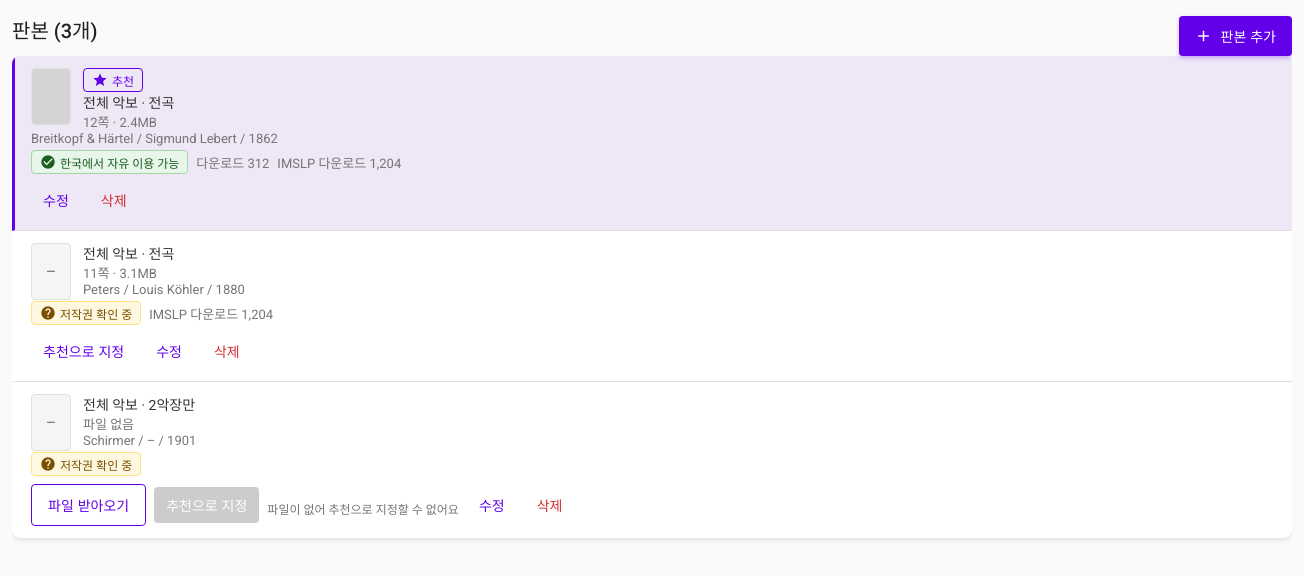
it: EditionListSection — 받아오는 중 수집 작업 안내 (06-A) › 수집이 진행 중이면 '수집이 끝난 뒤 받아와요' + '진행 중인 수집 보기' 링크
Click the button "파일 받아오기" at [89, 505], box [31,484,146,526]
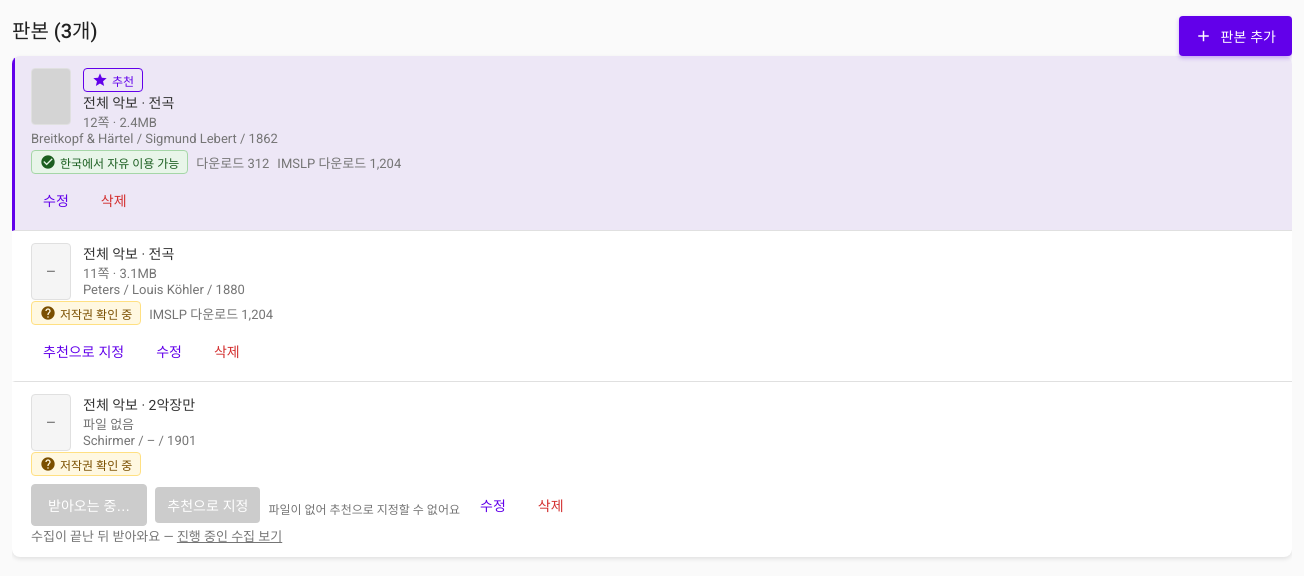
Expected: the text "수집이 끝난 뒤 받아와요" is shown, [31,529,177,544]
